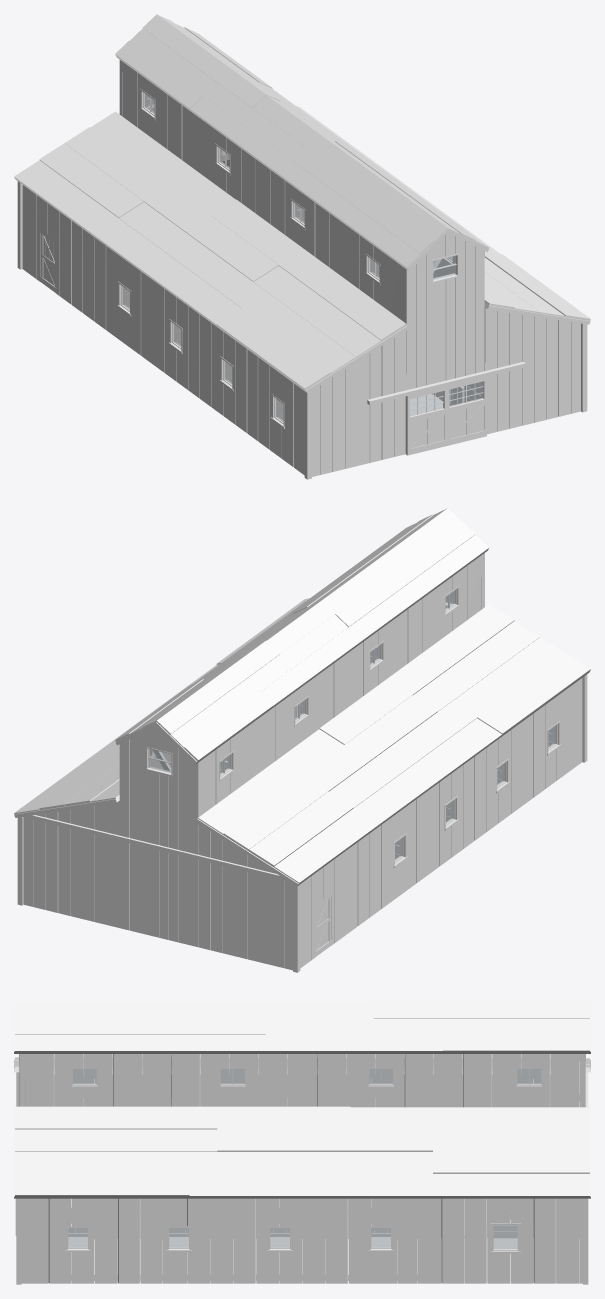
Rendered from Bld_Stable_01.glb.
The picture shows the model from 3 angles, top to bottom: view 1: azimuth 30°, elevation 25°; view 2: azimuth 150°, elevation 25°; view 3: azimuth 270°, elevation 25°; orthographic projection.
Visible parts, largest first — view 1: Bld_Stable_01, Bld_Stable_Slide Door_Left_01, Bld_Stable_Slide Door_Right_01, (_ignore)_Bld_Stable_Windows_01, Bld_Stable_Back_Door_01; view 2: Bld_Stable_01, (_ignore)_Bld_Stable_Windows_01, Bld_Stable_Back_Door_01; view 3: Bld_Stable_01, (_ignore)_Bld_Stable_Windows_01.
Boxes of the visible parts, x1,y1,x2,y2 form: Bld_Stable_01: [14, 14, 590, 479]; Bld_Stable_Slide Door_Left_01: [405, 386, 447, 455]; Bld_Stable_Slide Door_Right_01: [447, 376, 486, 445]; (_ignore)_Bld_Stable_Windows_01: [122, 94, 455, 421]; Bld_Stable_Back_Door_01: [40, 229, 56, 292]; Bld_Stable_01: [14, 508, 590, 972]; (_ignore)_Bld_Stable_Windows_01: [148, 590, 555, 861]; Bld_Stable_Back_Door_01: [315, 893, 331, 956]; Bld_Stable_01: [14, 1001, 590, 1284]; (_ignore)_Bld_Stable_Windows_01: [68, 1069, 540, 1248].
Bounding box in the file's own units: 12.36 × 9.03 × 21.87.
Materials: 2 (1 with a texture image).
